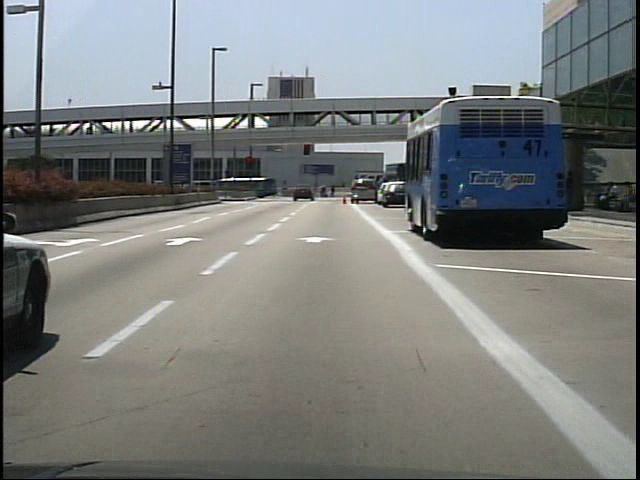person: (597, 181, 619, 211), (320, 185, 331, 200), (329, 184, 338, 200)
